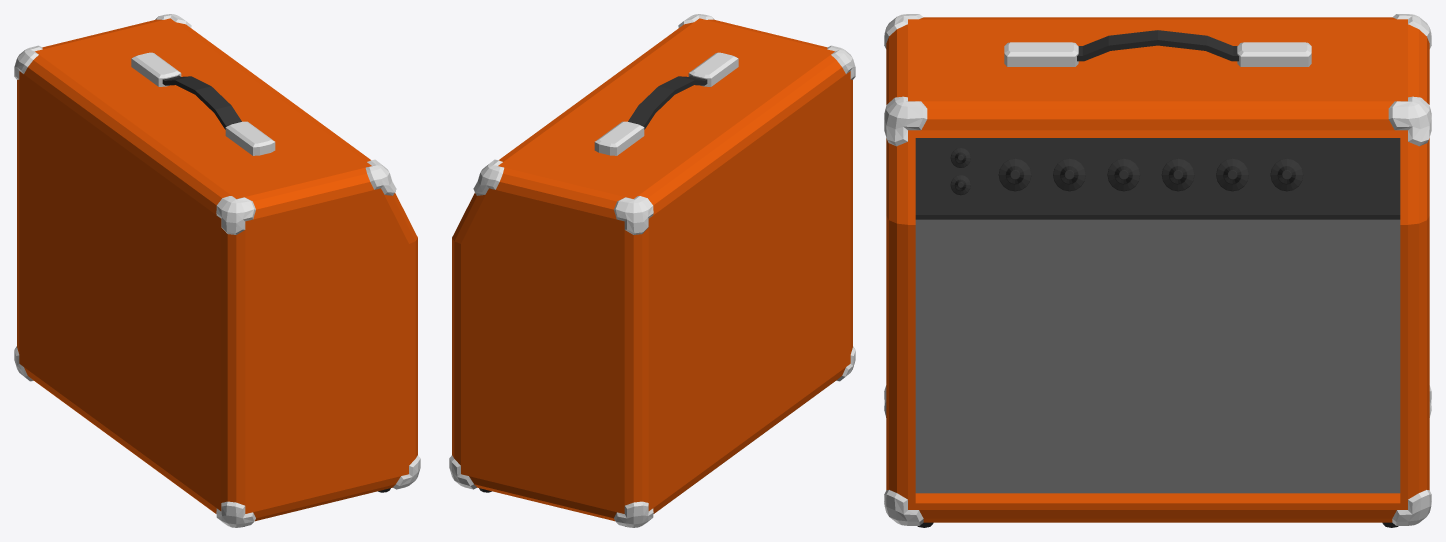
The model's file is Amp.glb.
3 renders of one model, left to right at view 1: azimuth 30°, elevation 25°; view 2: azimuth 150°, elevation 25°; view 3: azimuth 270°, elevation 25°, orthographic. The views are drawn at different scales.
Visible parts, largest first — view 1: Amp; view 2: Amp; view 3: Amp.
Boxes of the visible parts, bbox=[...] form: Amp: bbox=[14, 14, 420, 527]; Amp: bbox=[449, 14, 855, 527]; Amp: bbox=[884, 14, 1431, 527].
Size of the model in its own units: 24.87 by 42.56 by 48.26.
1 material, 1 textured.
